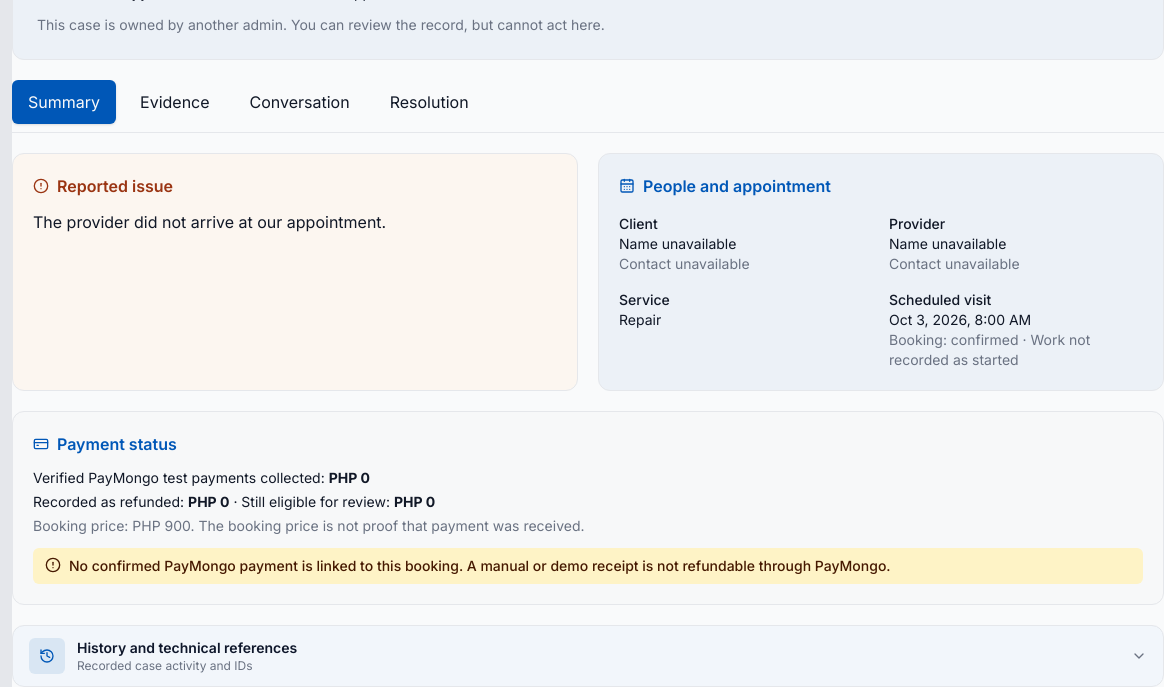
Test: AdminCasePage › keeps payment context visible and opens the secondary history disclosure
(page scrolled)
Check: the heading "Reported issue" is shown, box [33,176,173,196]
Check: the heading "People and appointment" is shown, box [619,176,831,196]
Click the text "History and technical references" at (187, 648), box [77,639,297,656]
(page scrolled)
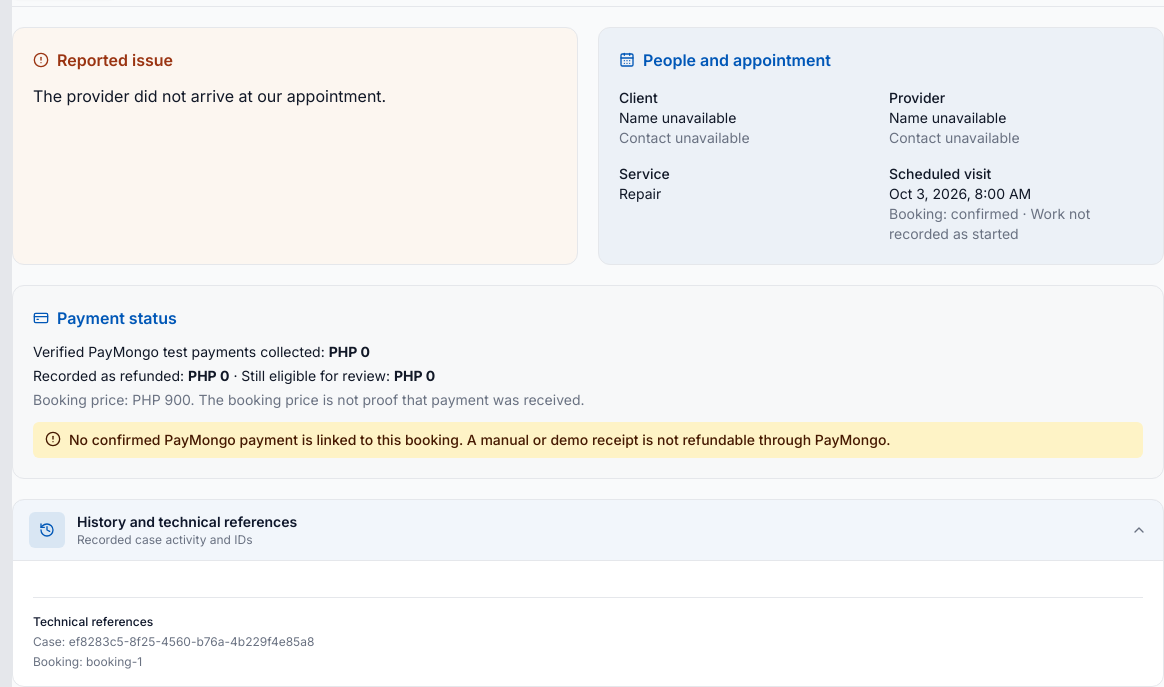
Check: the text "Case: ef8283c5-8f25-4560-b76a-4b229f4e85a8" is shown, box [33,634,314,649]
